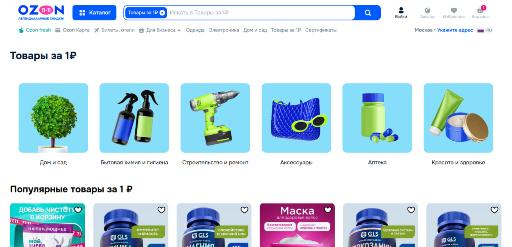ozon: (1, 0, 512, 247)
